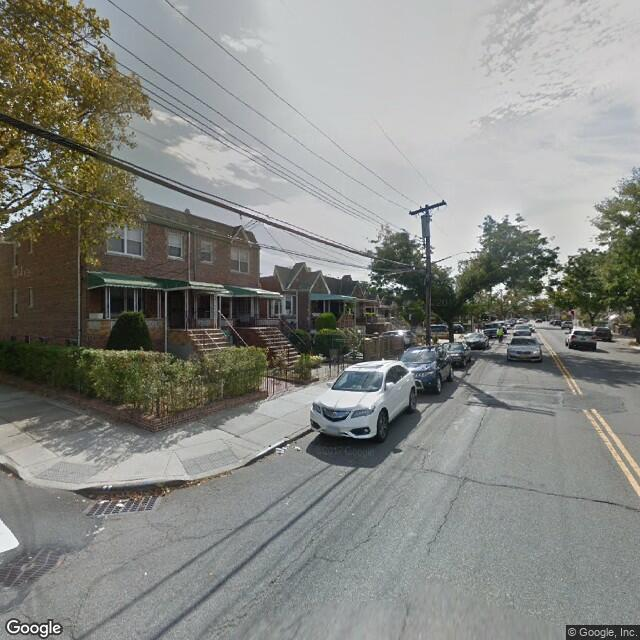litter: (111, 501, 128, 509), (274, 448, 286, 455), (293, 445, 301, 452), (98, 498, 109, 503)
